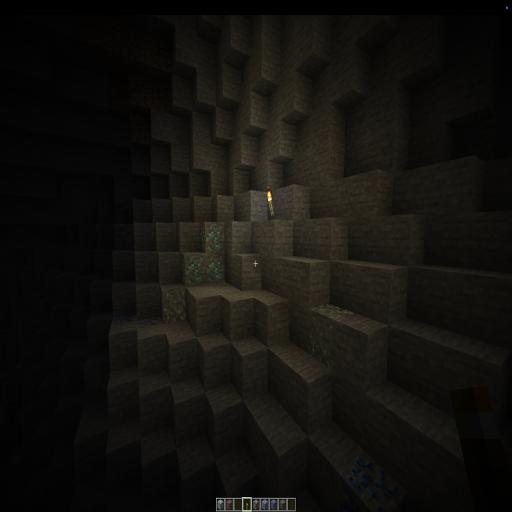diamond ore: (181, 223, 225, 286)
lapis ore: (345, 450, 412, 512), (112, 309, 162, 330)
